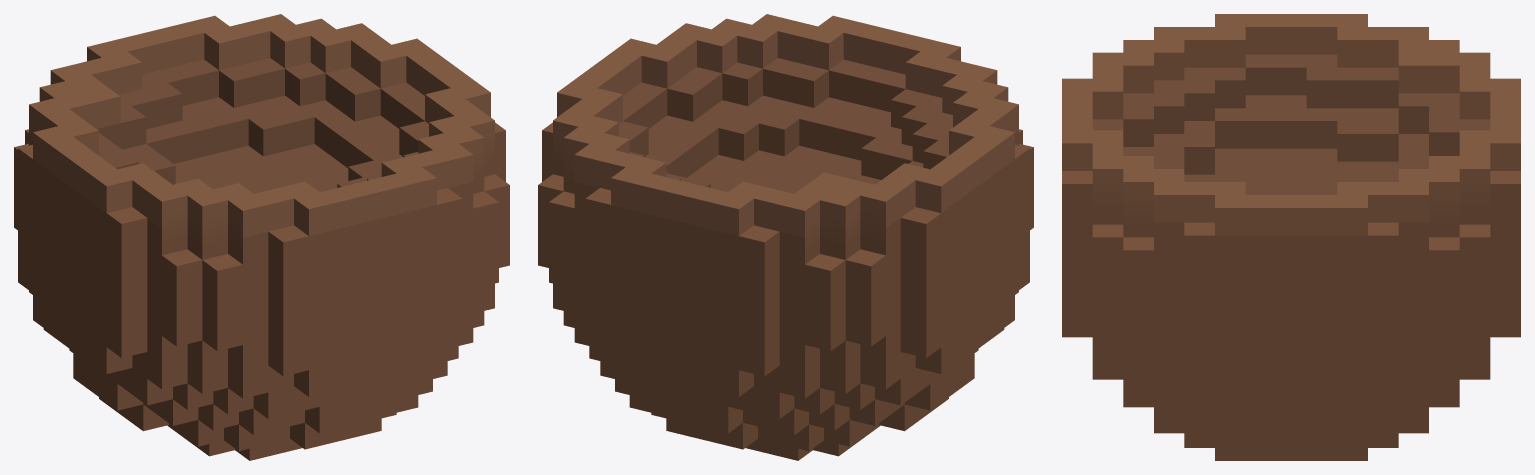
File: bowl.fbx
3 renders of one model, left to right at view 1: azimuth 30°, elevation 25°; view 2: azimuth 150°, elevation 25°; view 3: azimuth 270°, elevation 25°, orthographic. The views are drawn at different scales.
Parts seen in each view (by area): view 1: bowl; view 2: bowl; view 3: bowl.
Boxes of the visible parts, x1,y1,x2,y2 form: bowl: (14,14,509,460); bowl: (538,14,1033,460); bowl: (1062,14,1520,460).
Bounding box in the file's own units: 15 × 11 × 15.
Materials: 1 (1 with a texture image).
